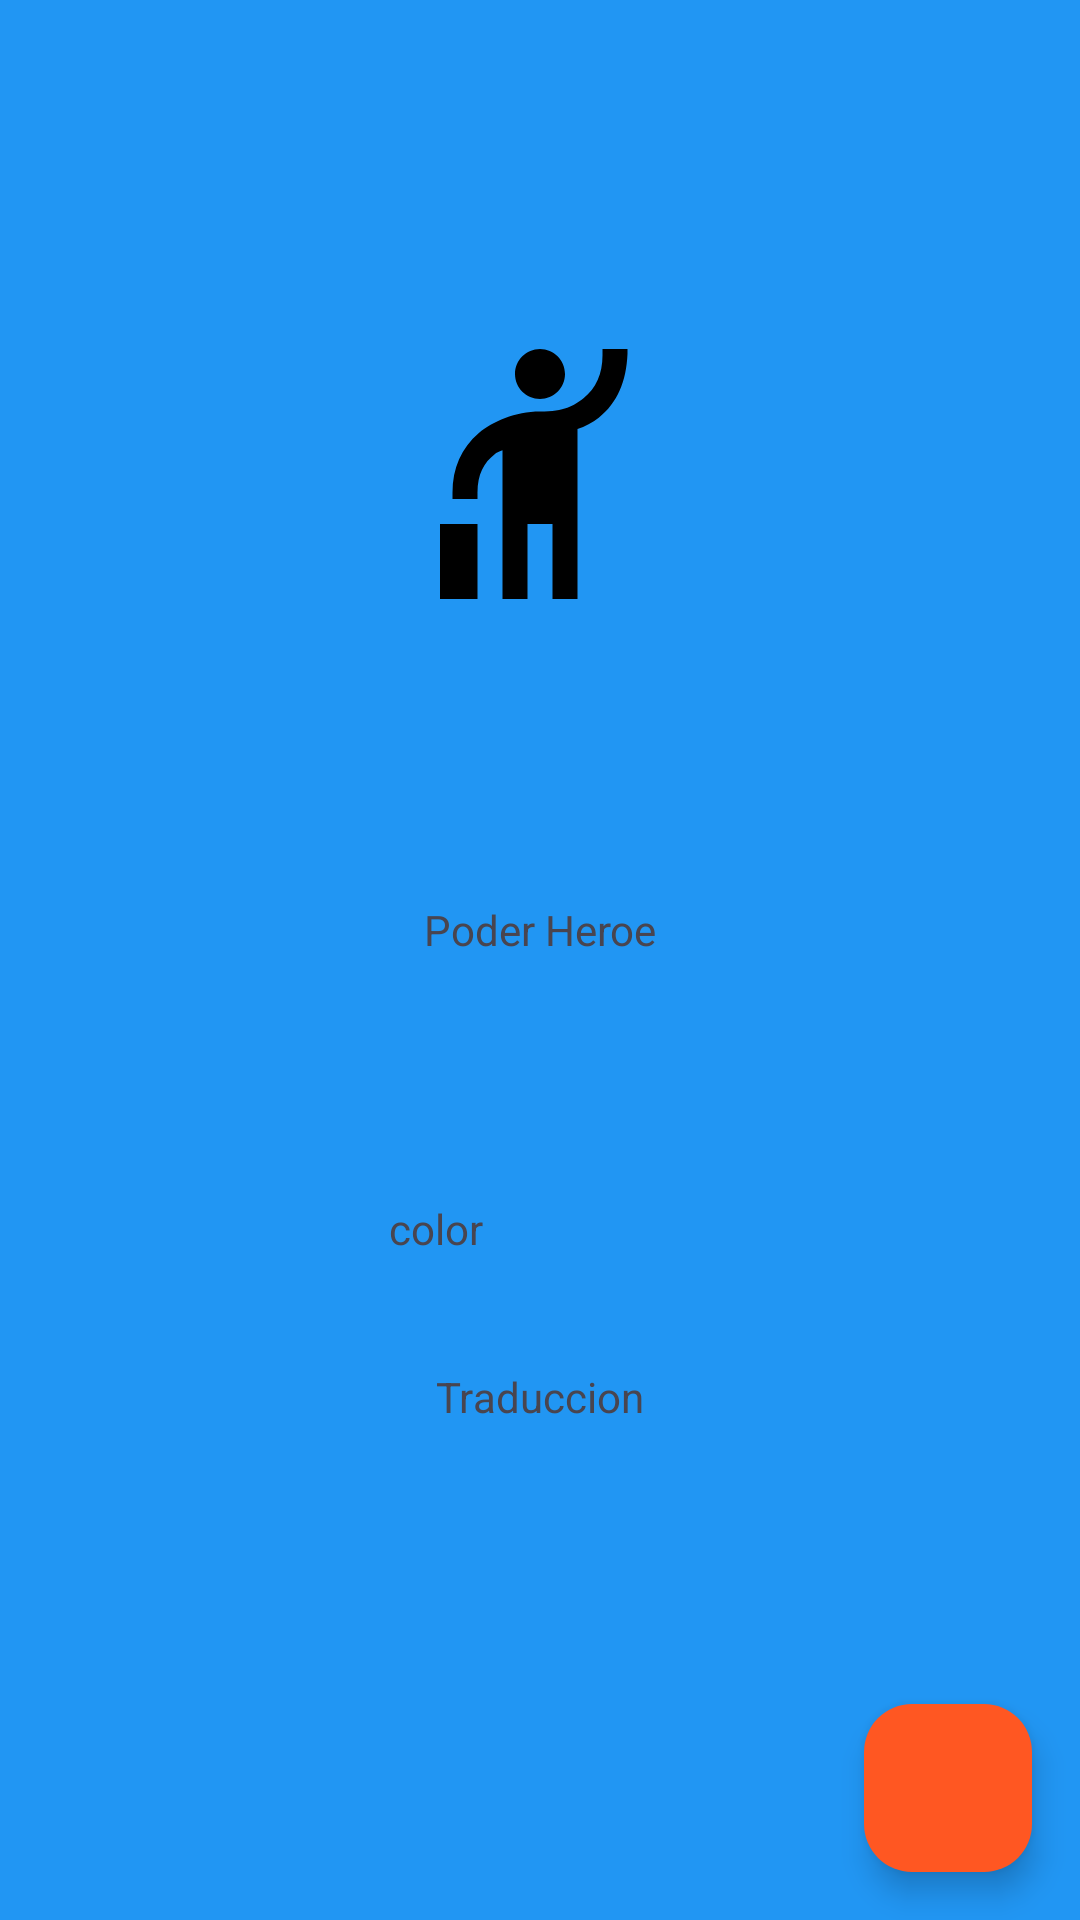

Screen size 1080w x 1920h. Icon name, then its box in pixels as (x1, y1, x2, y2):
Imagen Heroe: (440, 349, 628, 599)
